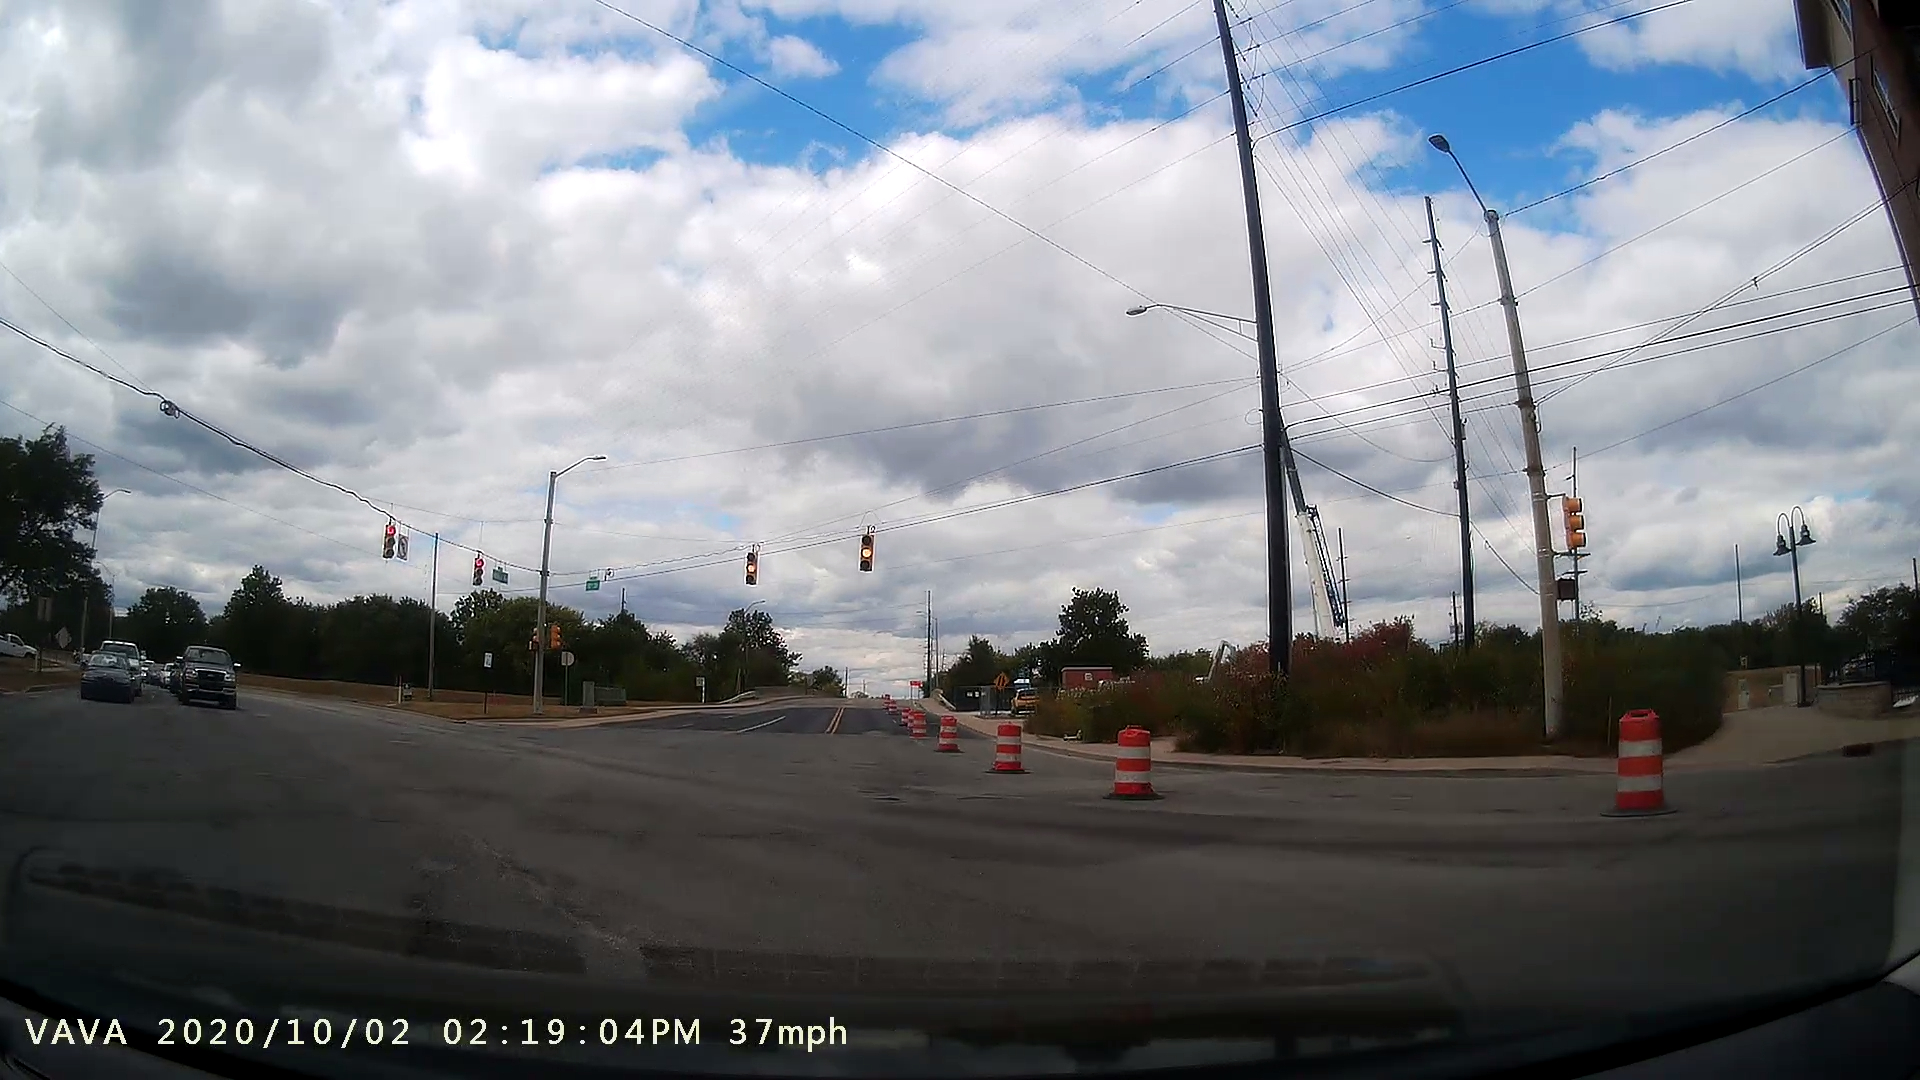const_barrel: (1592, 694, 1698, 833), (1096, 705, 1175, 808), (978, 715, 1035, 782), (923, 704, 971, 761)
